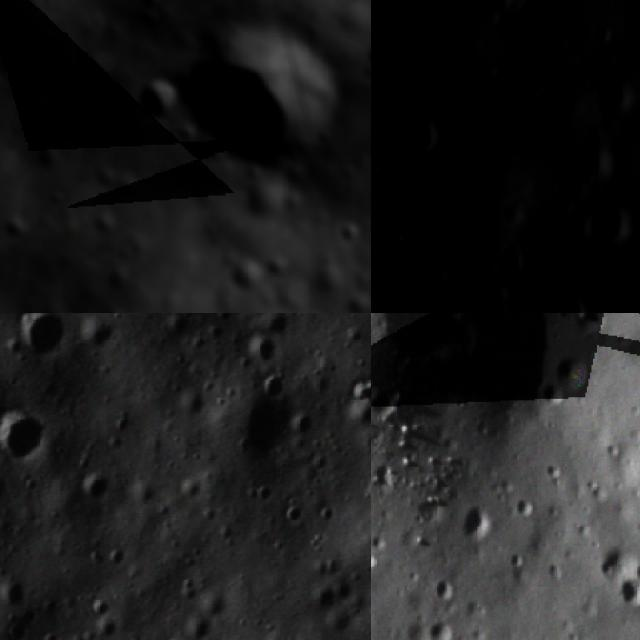crater: (158, 0, 367, 198), (440, 129, 531, 222), (371, 313, 486, 368), (410, 0, 491, 68), (120, 61, 189, 136), (388, 91, 454, 168), (229, 395, 295, 469), (0, 394, 54, 473), (10, 313, 78, 371), (585, 190, 640, 252), (570, 130, 622, 178), (225, 253, 272, 300), (0, 30, 23, 119), (553, 201, 596, 248), (593, 70, 636, 116), (241, 334, 292, 371), (554, 352, 595, 393), (541, 283, 594, 313), (583, 13, 623, 52), (374, 214, 408, 255), (83, 208, 122, 243), (462, 500, 496, 538), (467, 0, 538, 18), (0, 208, 31, 245), (262, 247, 292, 281), (38, 299, 101, 313), (424, 618, 462, 640), (433, 578, 464, 600), (505, 546, 525, 578), (383, 0, 434, 11), (371, 145, 387, 180), (616, 583, 640, 606), (513, 496, 537, 518), (371, 543, 389, 570), (561, 630, 590, 640), (634, 559, 640, 582)
